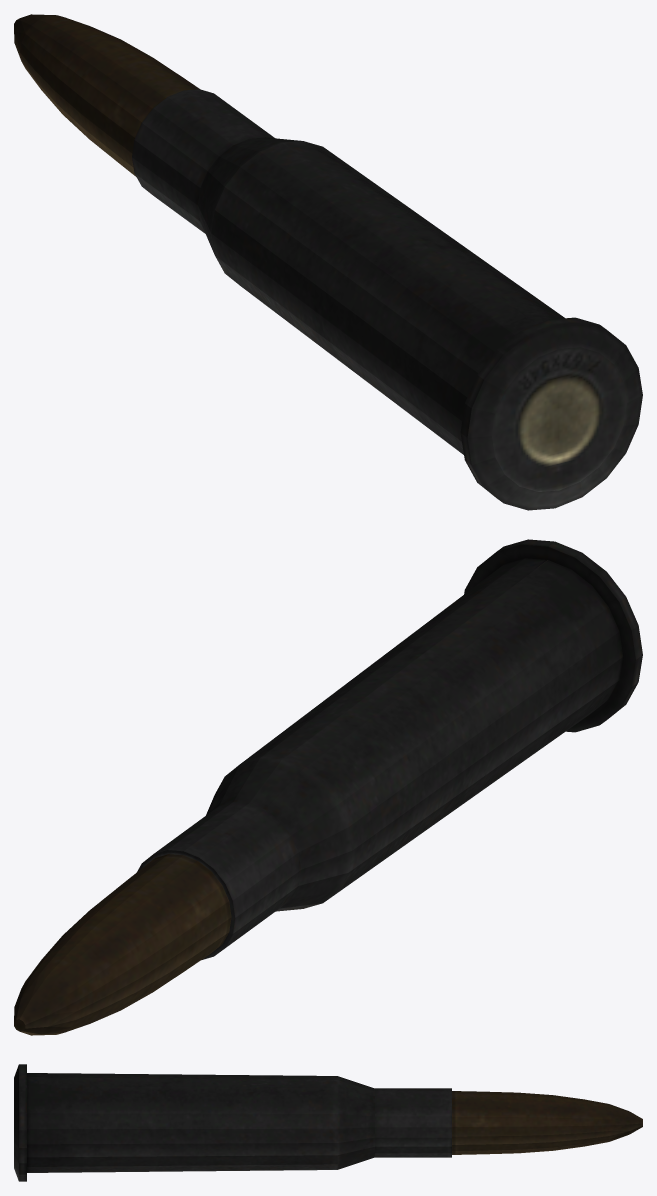
3 views of the same model, one above another, from view 1: azimuth 30°, elevation 25°; view 2: azimuth 150°, elevation 25°; view 3: azimuth 270°, elevation 25° (orthographic). The views are drawn at different scales.
Visible parts, largest first — view 1: TW_64b8f7c241772715af0f9c3d_PZ_Import; view 2: TW_64b8f7c241772715af0f9c3d_PZ_Import; view 3: TW_64b8f7c241772715af0f9c3d_PZ_Import.
Part boxes in pixels (bbox=[...]): TW_64b8f7c241772715af0f9c3d_PZ_Import: bbox=[14, 14, 642, 510]; TW_64b8f7c241772715af0f9c3d_PZ_Import: bbox=[14, 539, 642, 1035]; TW_64b8f7c241772715af0f9c3d_PZ_Import: bbox=[14, 1064, 642, 1181].
Bounding box in the file's own units: 0.00837 × 0.0446 × 0.00837.
Materials: 1 (1 with a texture image).
